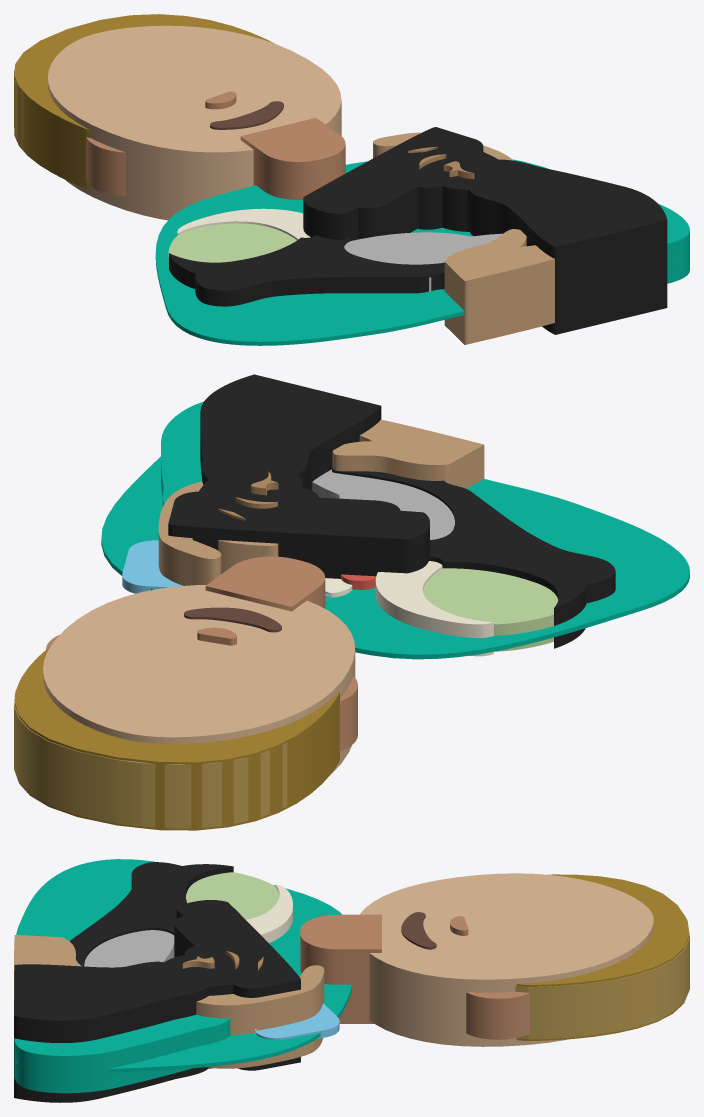
The model's file is emoji_u1f468_1f3fc_200d_1f37c.glb.
3 renders of one model, top to bottom at view 1: azimuth 30°, elevation 25°; view 2: azimuth 150°, elevation 25°; view 3: azimuth 270°, elevation 25°, orthographic. The views are drawn at different scales.
Parts seen in each view (by area): view 1: emoji_u1f468_1f3fc_200d_1f37c; view 2: emoji_u1f468_1f3fc_200d_1f37c; view 3: emoji_u1f468_1f3fc_200d_1f37c.
Boxes of the visible parts, x1,y1,x2,y2 form: emoji_u1f468_1f3fc_200d_1f37c: [14, 14, 689, 345]; emoji_u1f468_1f3fc_200d_1f37c: [14, 374, 689, 830]; emoji_u1f468_1f3fc_200d_1f37c: [14, 859, 689, 1102].
Size of the model in its own units: 0.0246 by 0.005 by 0.0328.
